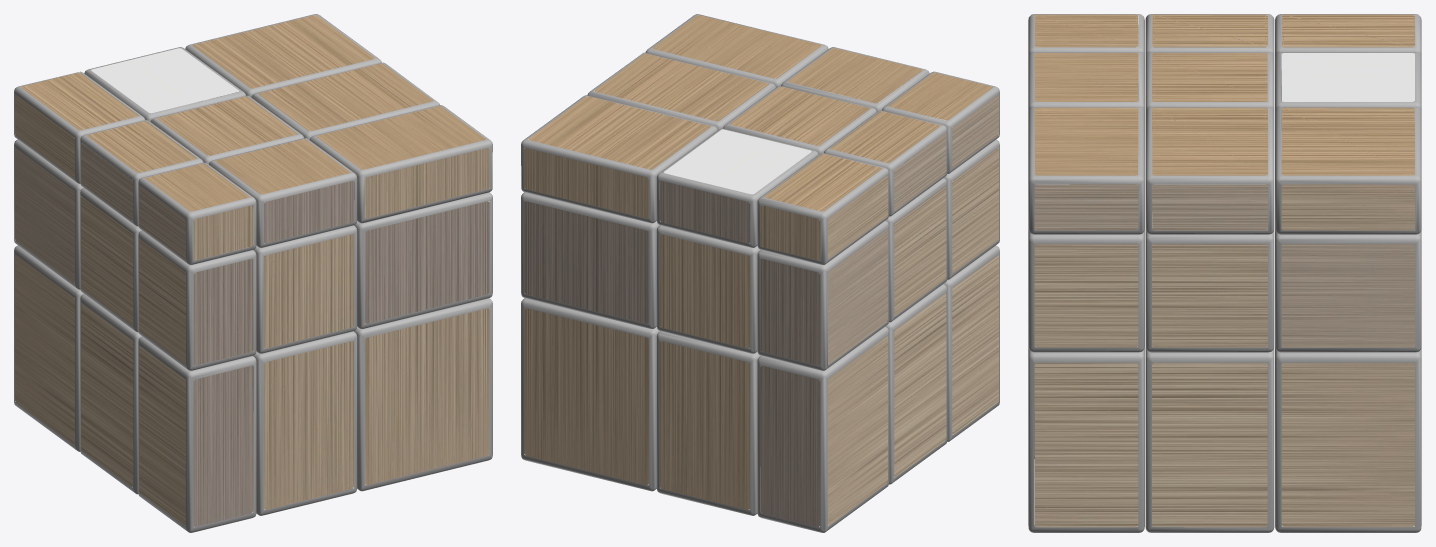
Rendered from cube_low_res.glb.
The picture shows the model from 3 angles, left to right: view 1: azimuth 30°, elevation 25°; view 2: azimuth 150°, elevation 25°; view 3: azimuth 270°, elevation 25°; orthographic projection. The views are drawn at different scales.
Parts seen in each view (by area): view 1: Object_0, Object_1; view 2: Object_0, Object_1; view 3: Object_0, Object_1.
Part boxes in pixels (x1,y1,x2,y2): Object_0: (15,15,489,526); Object_1: (14,14,492,532); Object_0: (524,15,998,526); Object_1: (521,14,999,532); Object_0: (1034,14,1414,527); Object_1: (1028,14,1421,532).
Size of the model in its own units: 0.0787 by 0.0787 by 0.0787.
Materials: 2 (1 with a texture image).
